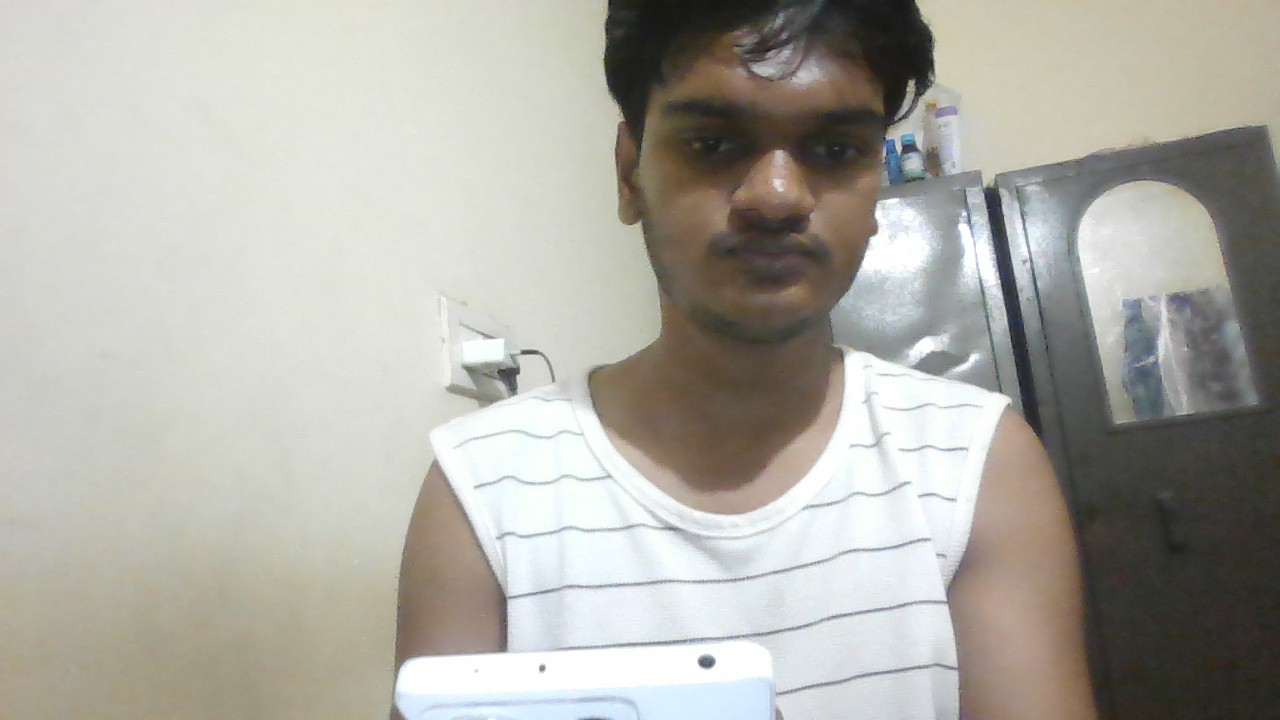phone: (399, 639, 776, 720)
